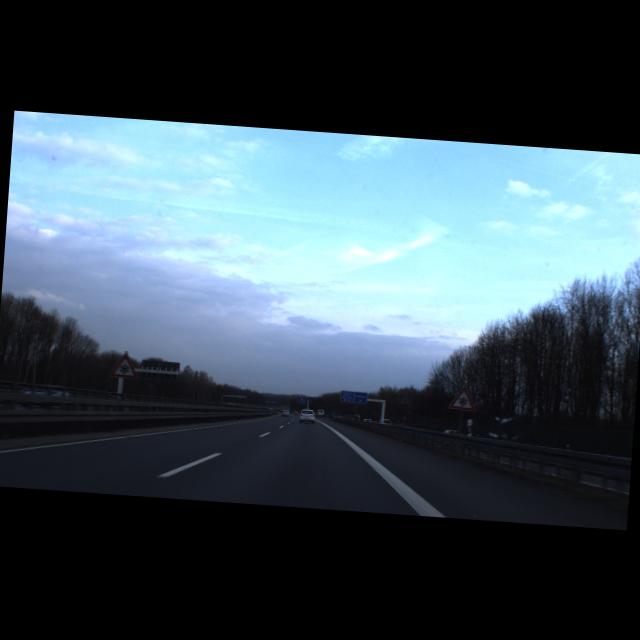danger: (108, 350, 139, 379), (447, 384, 477, 412)
